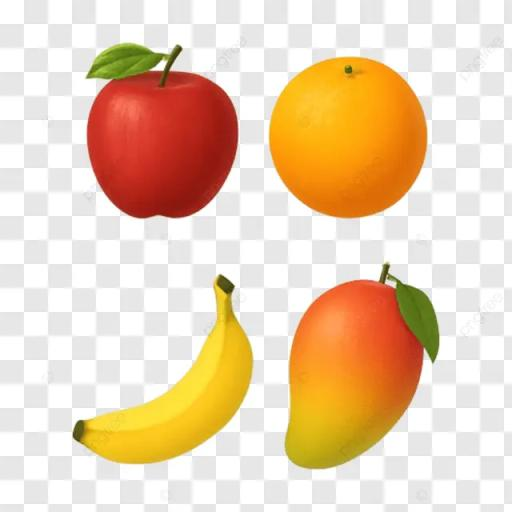apple: (88, 55, 237, 217)
banana: (73, 276, 252, 463)
mango: (287, 279, 422, 471)
orange: (270, 57, 427, 217)
